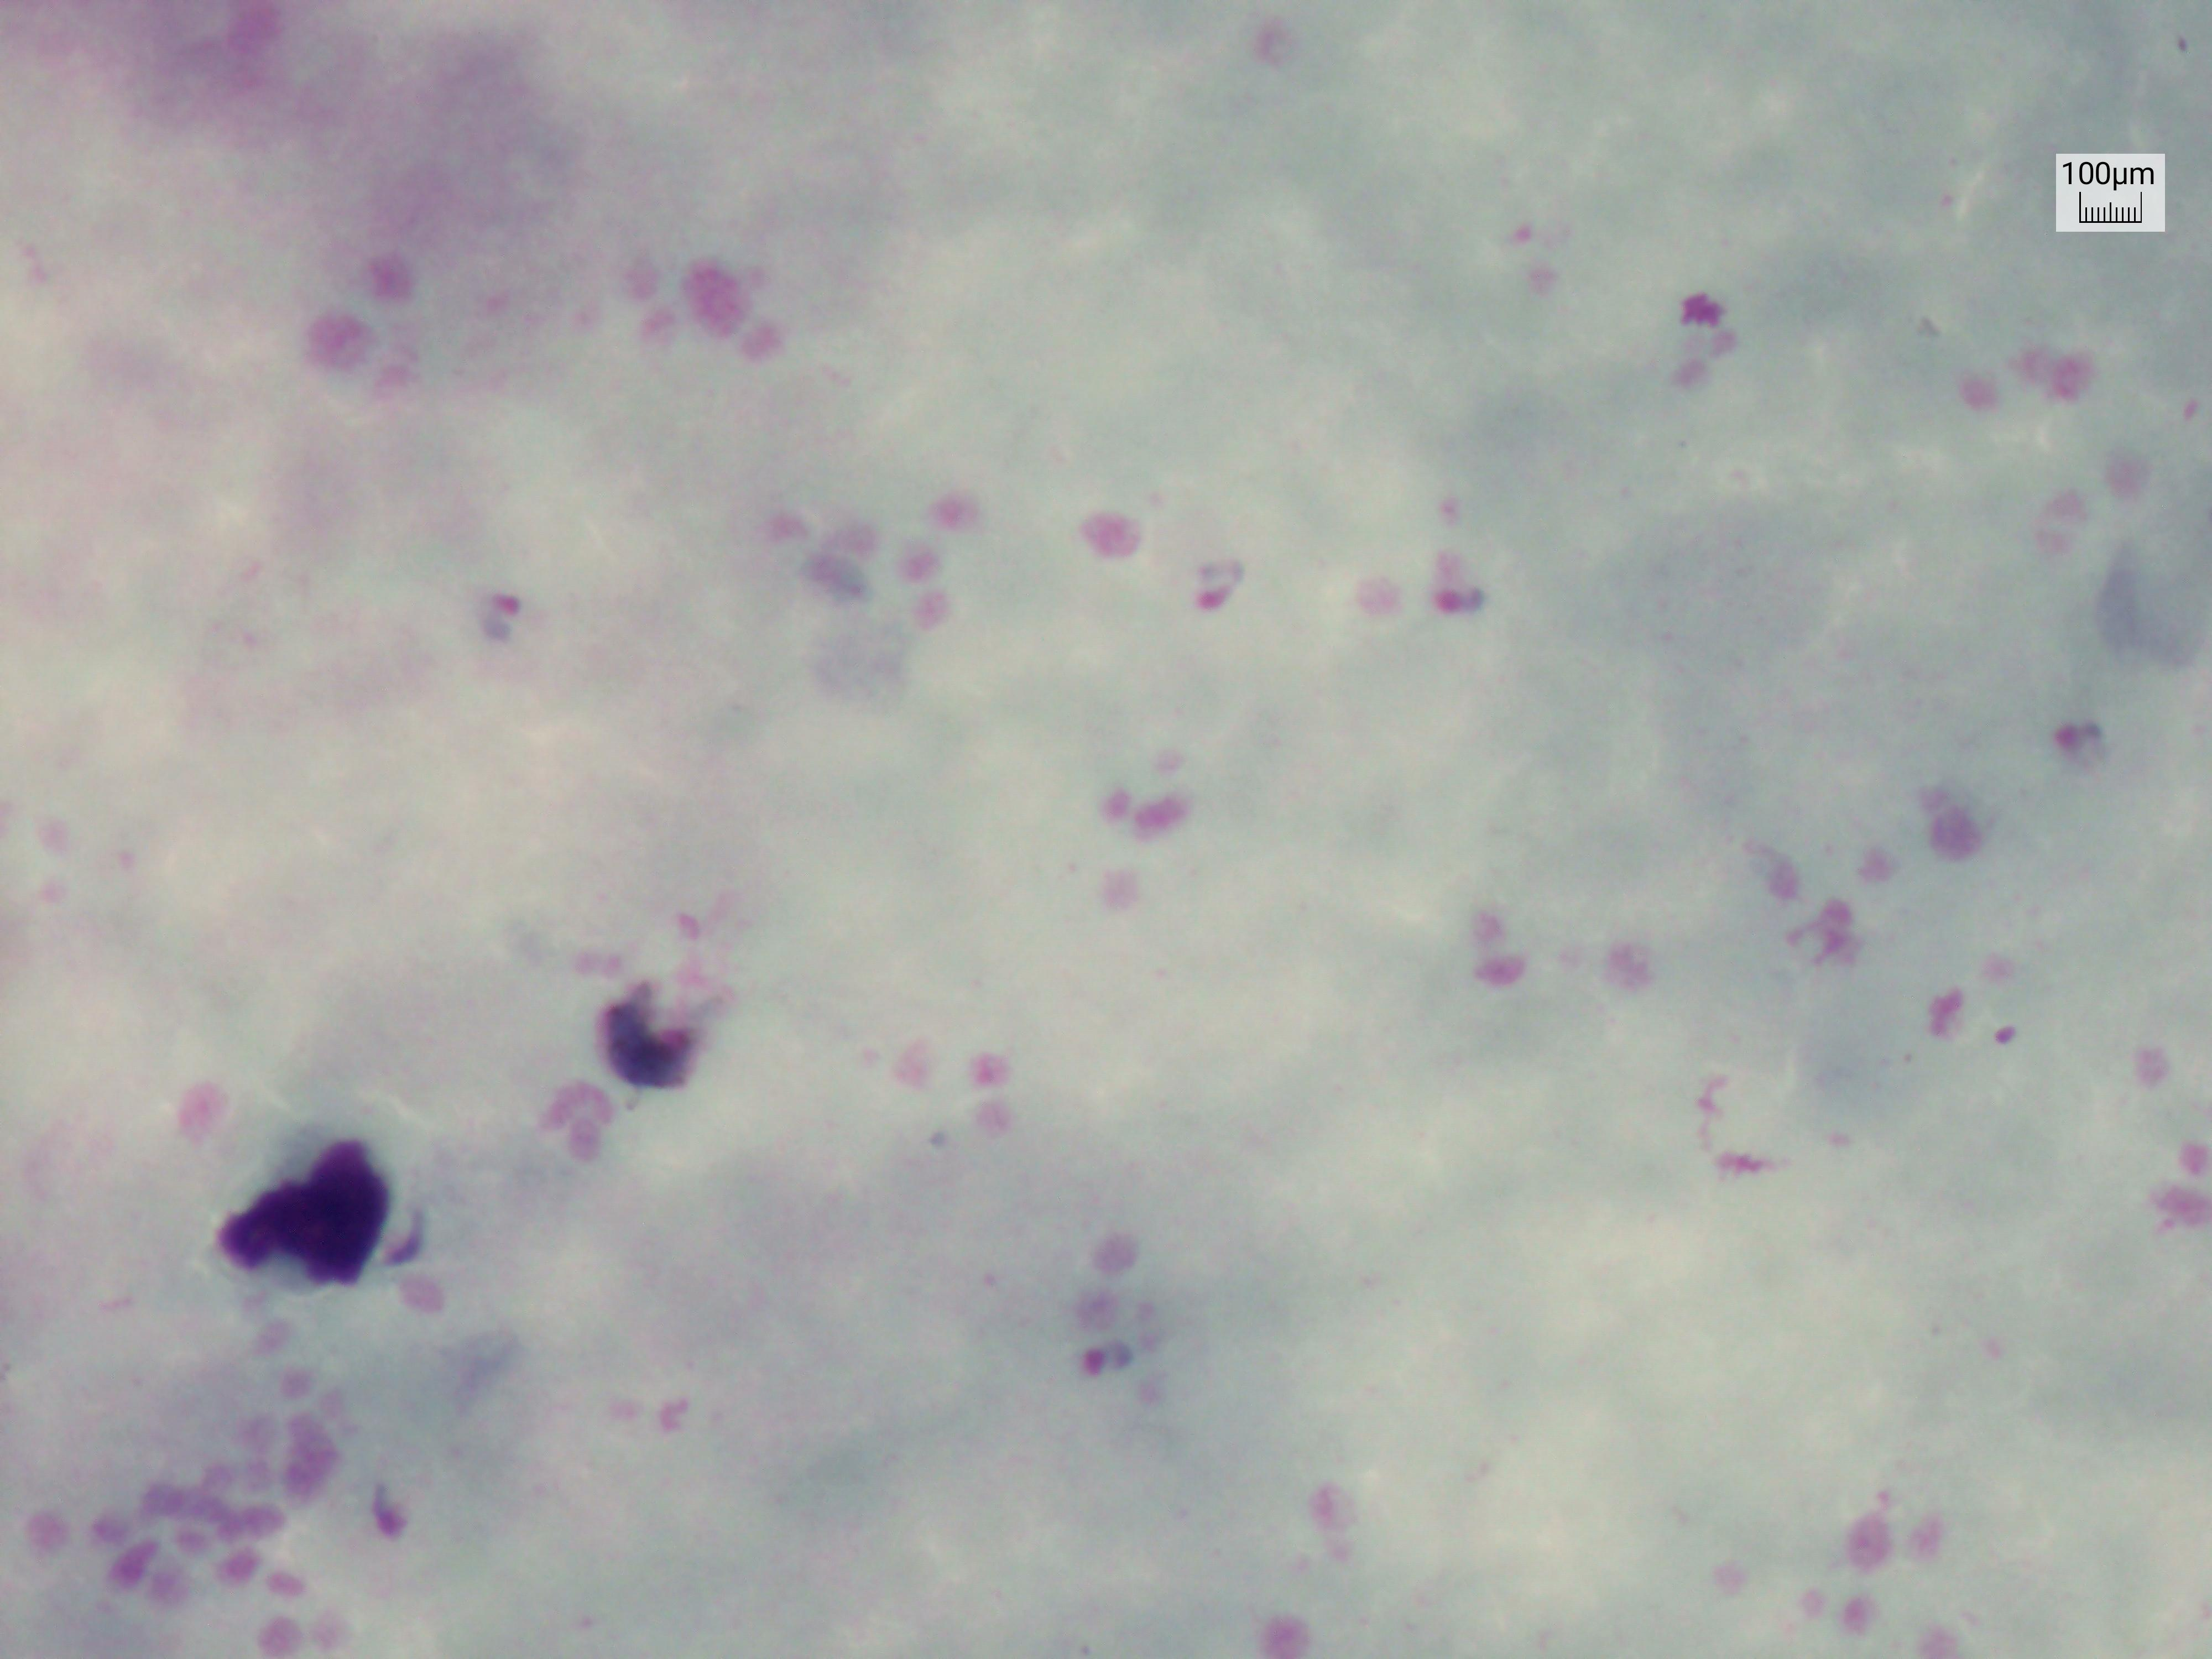p.vivax: (559, 929, 752, 1124), (1045, 1290, 1169, 1412), (345, 1455, 437, 1563), (448, 570, 557, 655), (2038, 681, 2111, 809), (1421, 537, 1507, 641), (1191, 547, 1270, 641)
